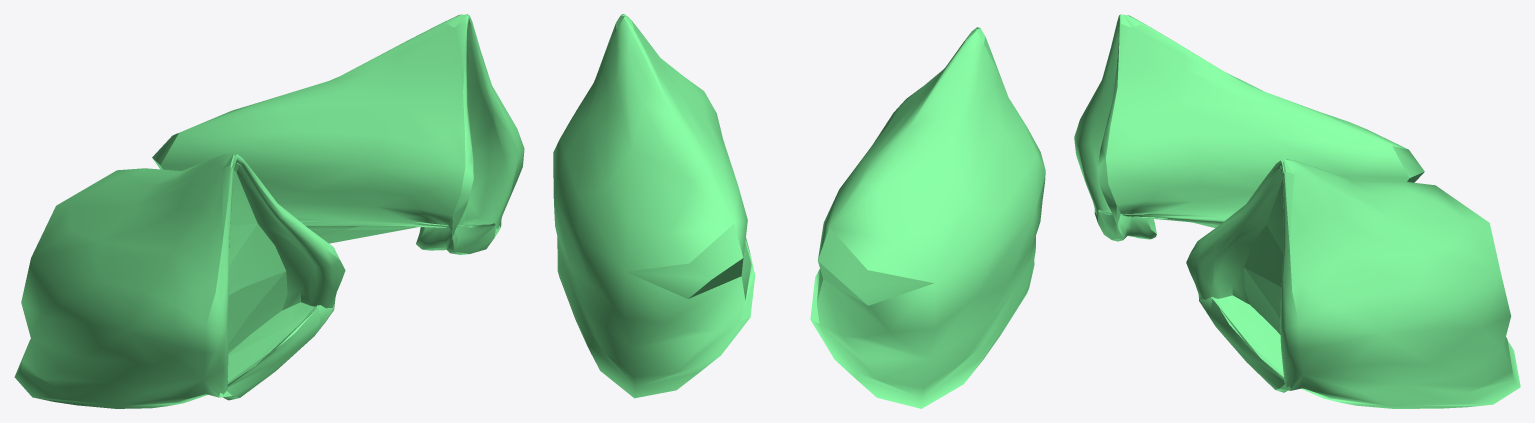
3 views of the same model, side by side, from view 1: azimuth 30°, elevation 25°; view 2: azimuth 150°, elevation 25°; view 3: azimuth 270°, elevation 25° (orthographic). The views are drawn at different scales.
Visible parts, largest first — view 1: ears_005.001; view 2: ears_005.001; view 3: ears_005.001.
Boxes of the visible parts, box(x1,y1,x2,y2) form: ears_005.001: box(14, 14, 524, 408); ears_005.001: box(553, 14, 1045, 408); ears_005.001: box(1074, 14, 1520, 408).
Size of the model in its own units: 89.62 by 77.87 by 55.96.
